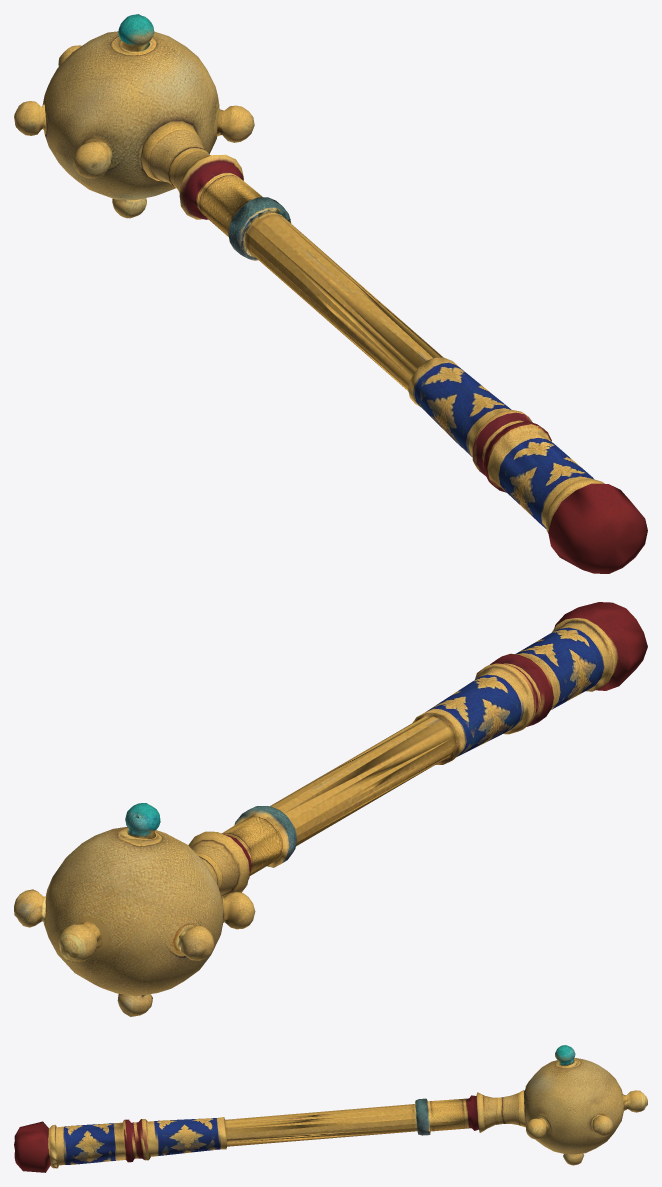
The model's file is item_mace4.glb.
3 views of the same model, one above another, from view 1: azimuth 30°, elevation 25°; view 2: azimuth 150°, elevation 25°; view 3: azimuth 270°, elevation 25° (orthographic). The views are drawn at different scales.
Parts seen in each view (by area): view 1: Mesh_0; view 2: Mesh_0; view 3: Mesh_0.
Part boxes in pixels (x1,y1,x2,y2): Mesh_0: (14, 14, 647, 573); Mesh_0: (14, 602, 647, 1016); Mesh_0: (14, 1045, 647, 1172).
Bounding box in the file's own units: 0.1994 × 0.2151 × 1.
1 material, 1 textured.
